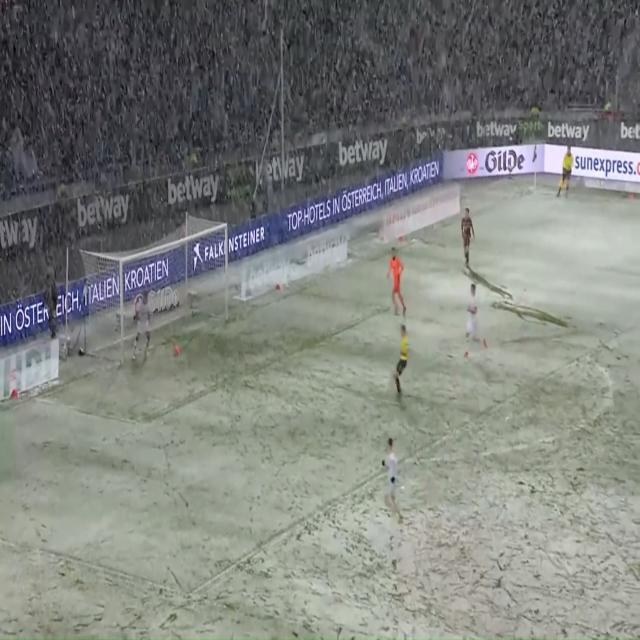ball: (170, 343, 180, 362)
goalkeeper: (384, 240, 409, 317)
player: (378, 436, 406, 527), (462, 278, 489, 362), (132, 288, 153, 366), (457, 203, 478, 277)
referee: (386, 319, 411, 402), (555, 138, 574, 201)
